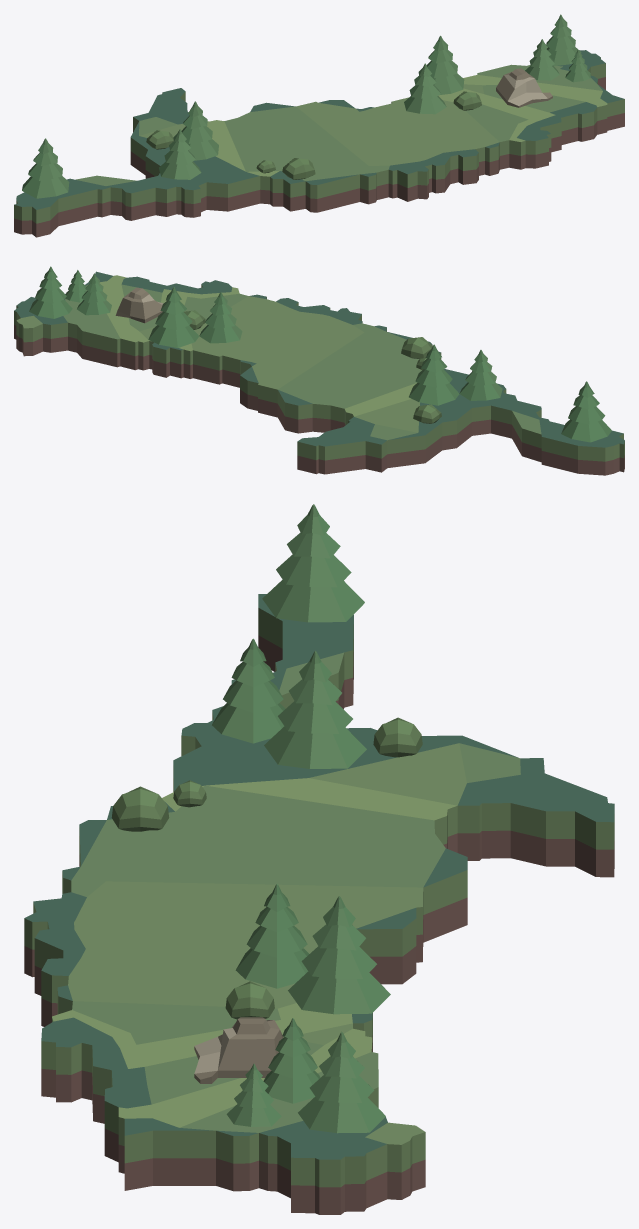
The model's file is nerungri.gltf.
The picture shows the model from 3 angles, top to bottom: view 1: azimuth 30°, elevation 25°; view 2: azimuth 150°, elevation 25°; view 3: azimuth 270°, elevation 25°; orthographic projection. The views are drawn at different scales.
Visible parts, largest first — view 1: нерюнгри; view 2: нерюнгри; view 3: нерюнгри.
Boxes of the visible parts, x1,y1,x2,y2 form: нерюнгри: [14, 14, 624, 237]; нерюнгри: [14, 266, 624, 475]; нерюнгри: [24, 504, 614, 1214].
Size of the model in its own units: 3.5 by 0.4744 by 1.51.
